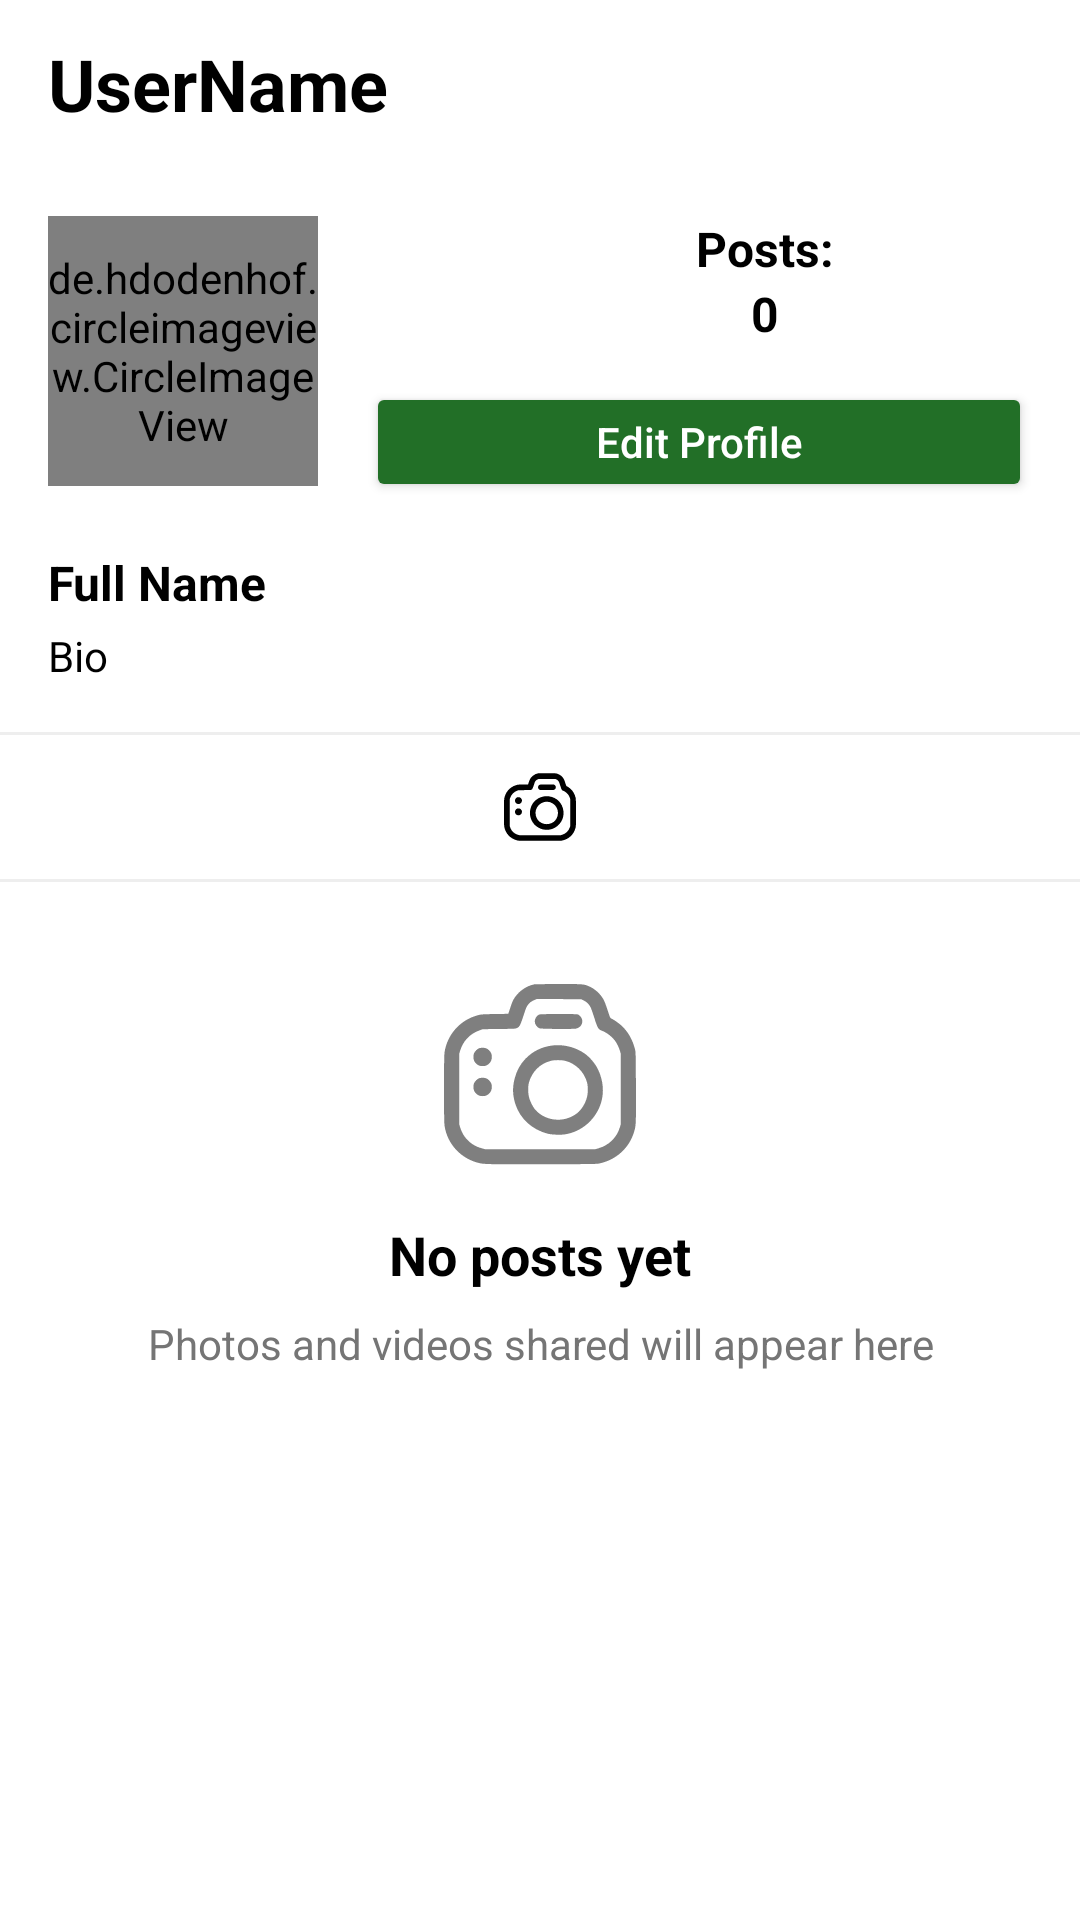

Icons on this 1080 × 1920 Android screen, each with the point to tap as (x,y):
camera: (540,807), (540,1074)
